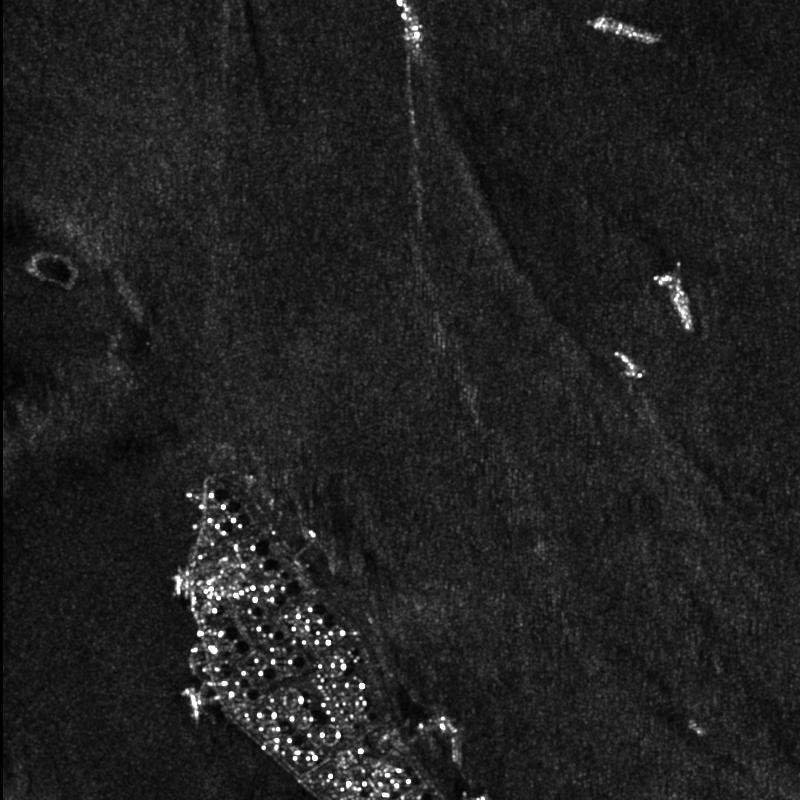ship: (653, 269, 695, 333), (586, 15, 663, 44), (395, 0, 422, 46), (613, 349, 644, 379), (181, 686, 199, 717), (451, 734, 462, 764), (474, 796, 490, 799)
